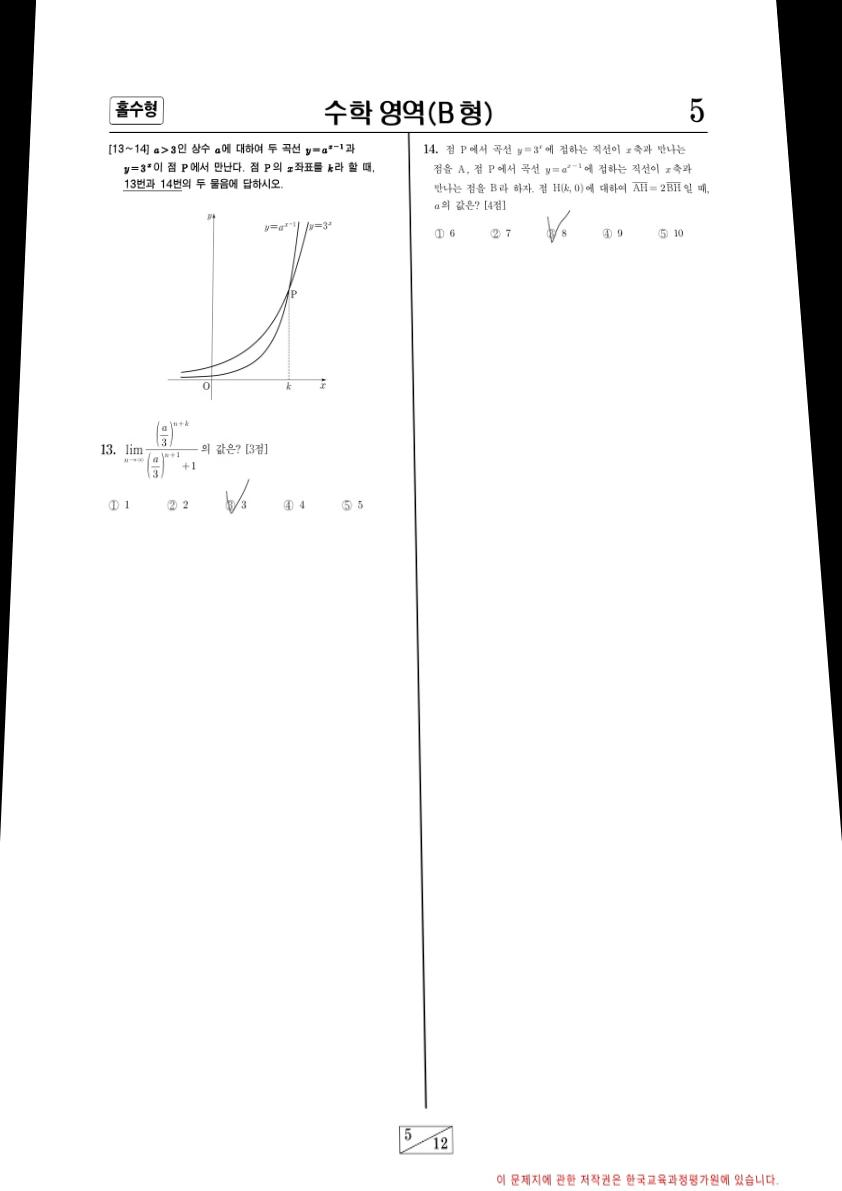question: (82, 136, 392, 530), (410, 136, 717, 254)
